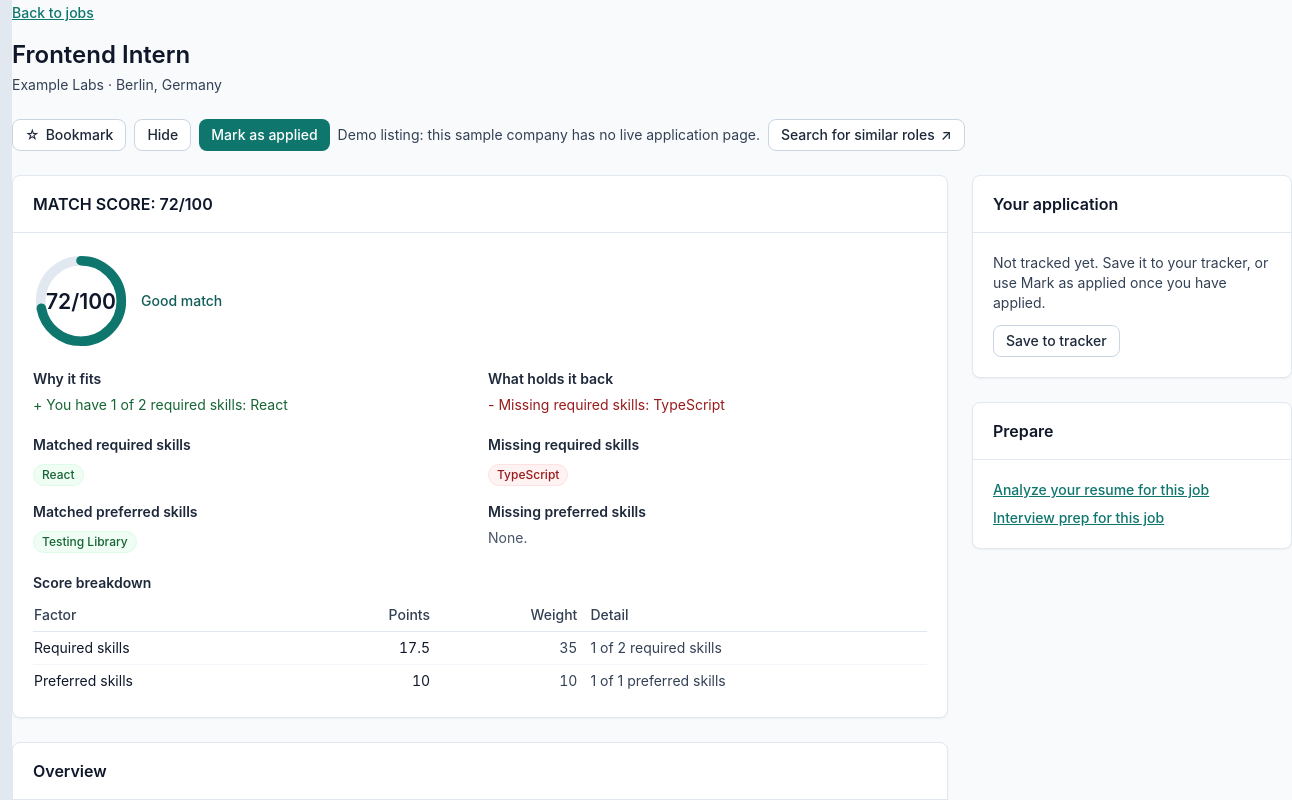
Test: JobDetailPage › bookmarks, hides and marks the job as applied through the API with toasts
The width and height of the screenshot is (1292, 800).
Click the button "☆ Bookmark".
click(69, 135)  # box [12, 119, 126, 151]
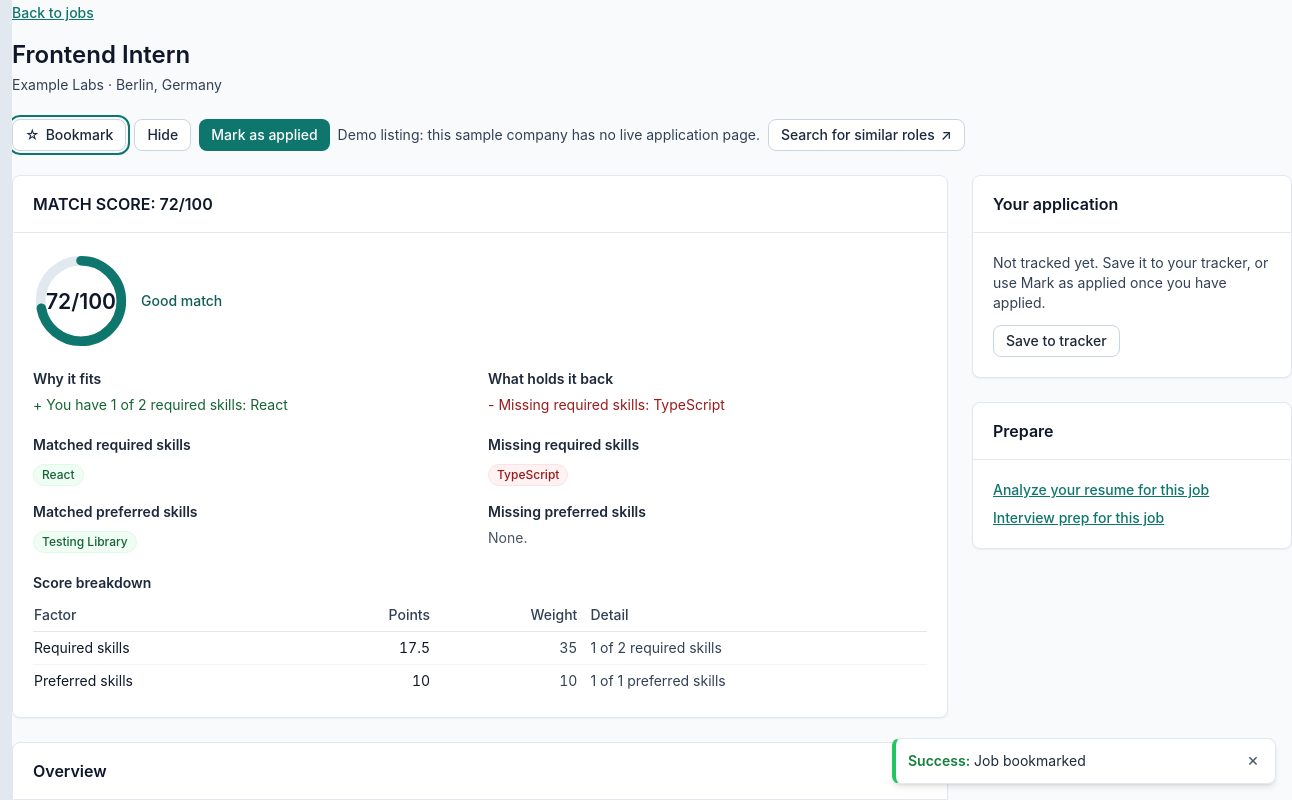
expect the text "Job bookmarked" is shown: met, box [974, 752, 1086, 769]
Click the button "Hide".
click(163, 135)  # box [134, 119, 191, 151]
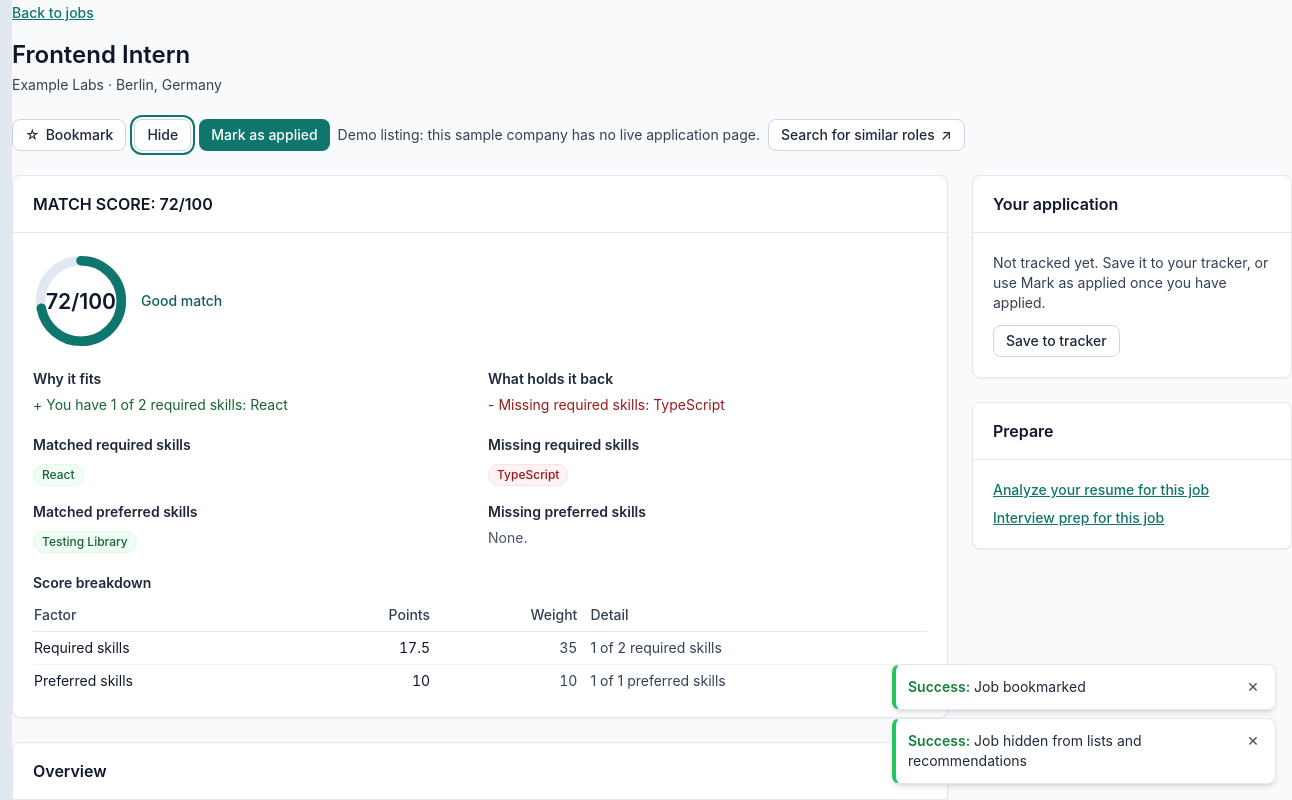
expect the text "Job hidden from lists and recommendations" is shown: met, box [908, 732, 1142, 769]
Click the button "Mark as applied".
click(264, 135)  # box [199, 119, 330, 151]
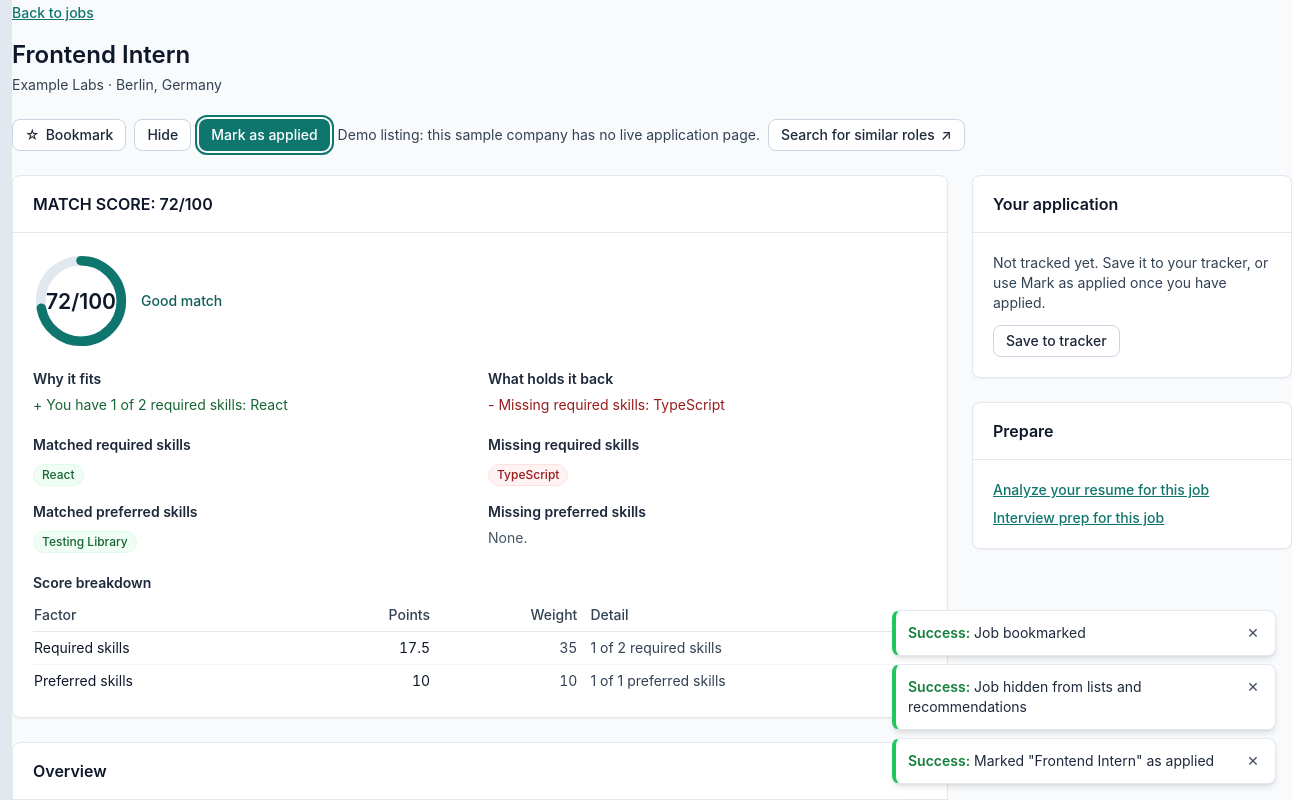
expect the text "Marked \"Frontend Intern\" as applied" is shown: met, box [974, 752, 1214, 769]
